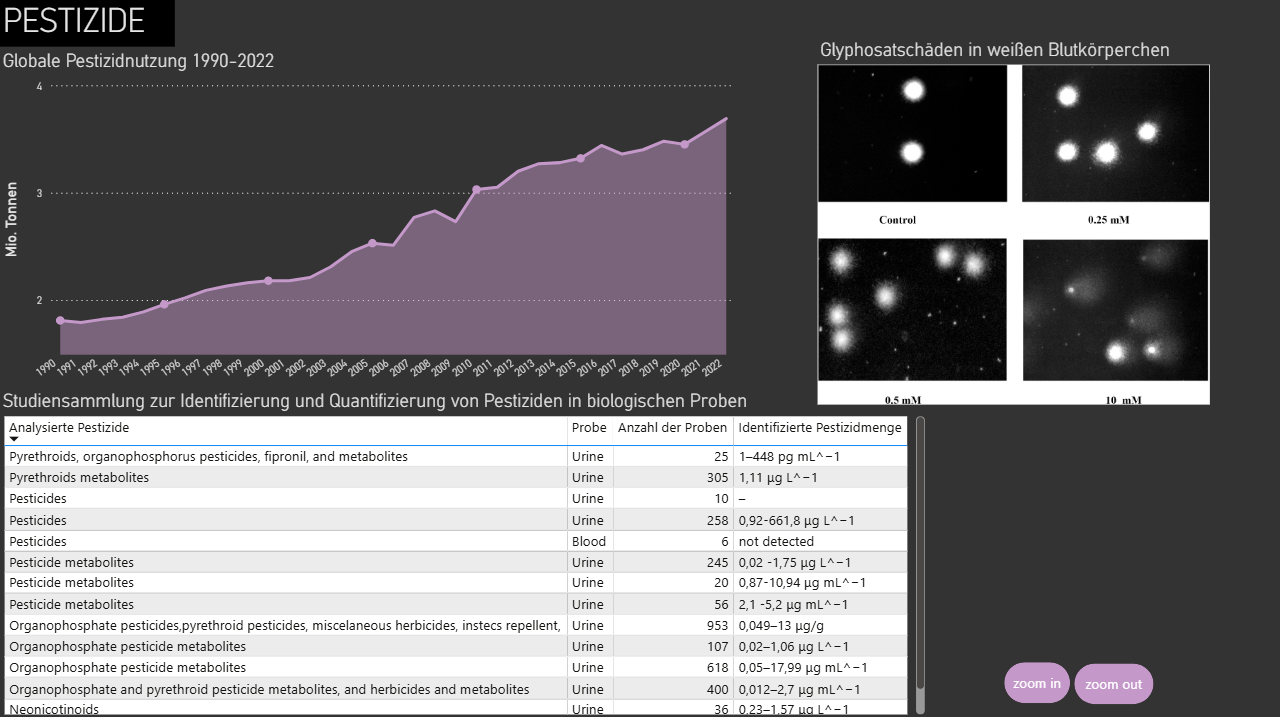

Layout of this report page (visuals, bound fields, positions):
{"tool":"powerbi","page":{"name":"Seite 12","canvas":[1280,720],"ordinal":7},"visuals":[{"type":"textbox","box":[0,0,175.7,50],"z":0},{"type":"tableEx","title":"Studiensammlung zur Identifizierung und Quantifizierung von Pestiziden in biologischen Proben","fields":{"Values":["Pestizid im Urin und Blut Studie.Analytes","Pestizid im Urin und Blut Studie.Sample","Sum(Pestizid im Urin und Blut Studie.Number of samples)","Pestizid im Urin und Blut Studie.Identified pesticides (mean values)"]},"box":[0,391.8,927.7,328.4],"z":1000},{"type":"lineChart","title":"Globale Pestizidnutzung 1990-2022","fields":{"Category":["pestizid data.Global pesticide agricultural use 1990-2022"],"Y":["Sum(pestizid data.million metric tons)"]},"box":[0,53.5,738.3,344.7],"z":2000},{"type":"image","box":[758.3,63.7,503.8,348.3],"z":3000},{"type":"textbox","box":[813.3,37.6,394.3,43.5],"z":4000},{"type":"shape","box":[1001.1,663.4,65.5,40.7],"z":9000},{"type":"shape","box":[1070.8,663.7,78.9,40.4],"z":10000}]}

Visuals, with their boxes in screenshot pixels (x1, y1, x2, y2), scaled from the page's 1280x720 canvas onto the 1280x717 screenshot:
textbox: detection(0, 0, 176, 50)
"Studiensammlung zur Identifizierung und Quantifizierung von Pestiziden in biologischen Proben" tableEx: detection(0, 390, 928, 716)
"Globale Pestizidnutzung 1990-2022" lineChart: detection(0, 53, 738, 397)
image: detection(758, 63, 1262, 410)
textbox: detection(813, 37, 1208, 81)
shape: detection(1001, 661, 1067, 701)
shape: detection(1071, 661, 1150, 701)
